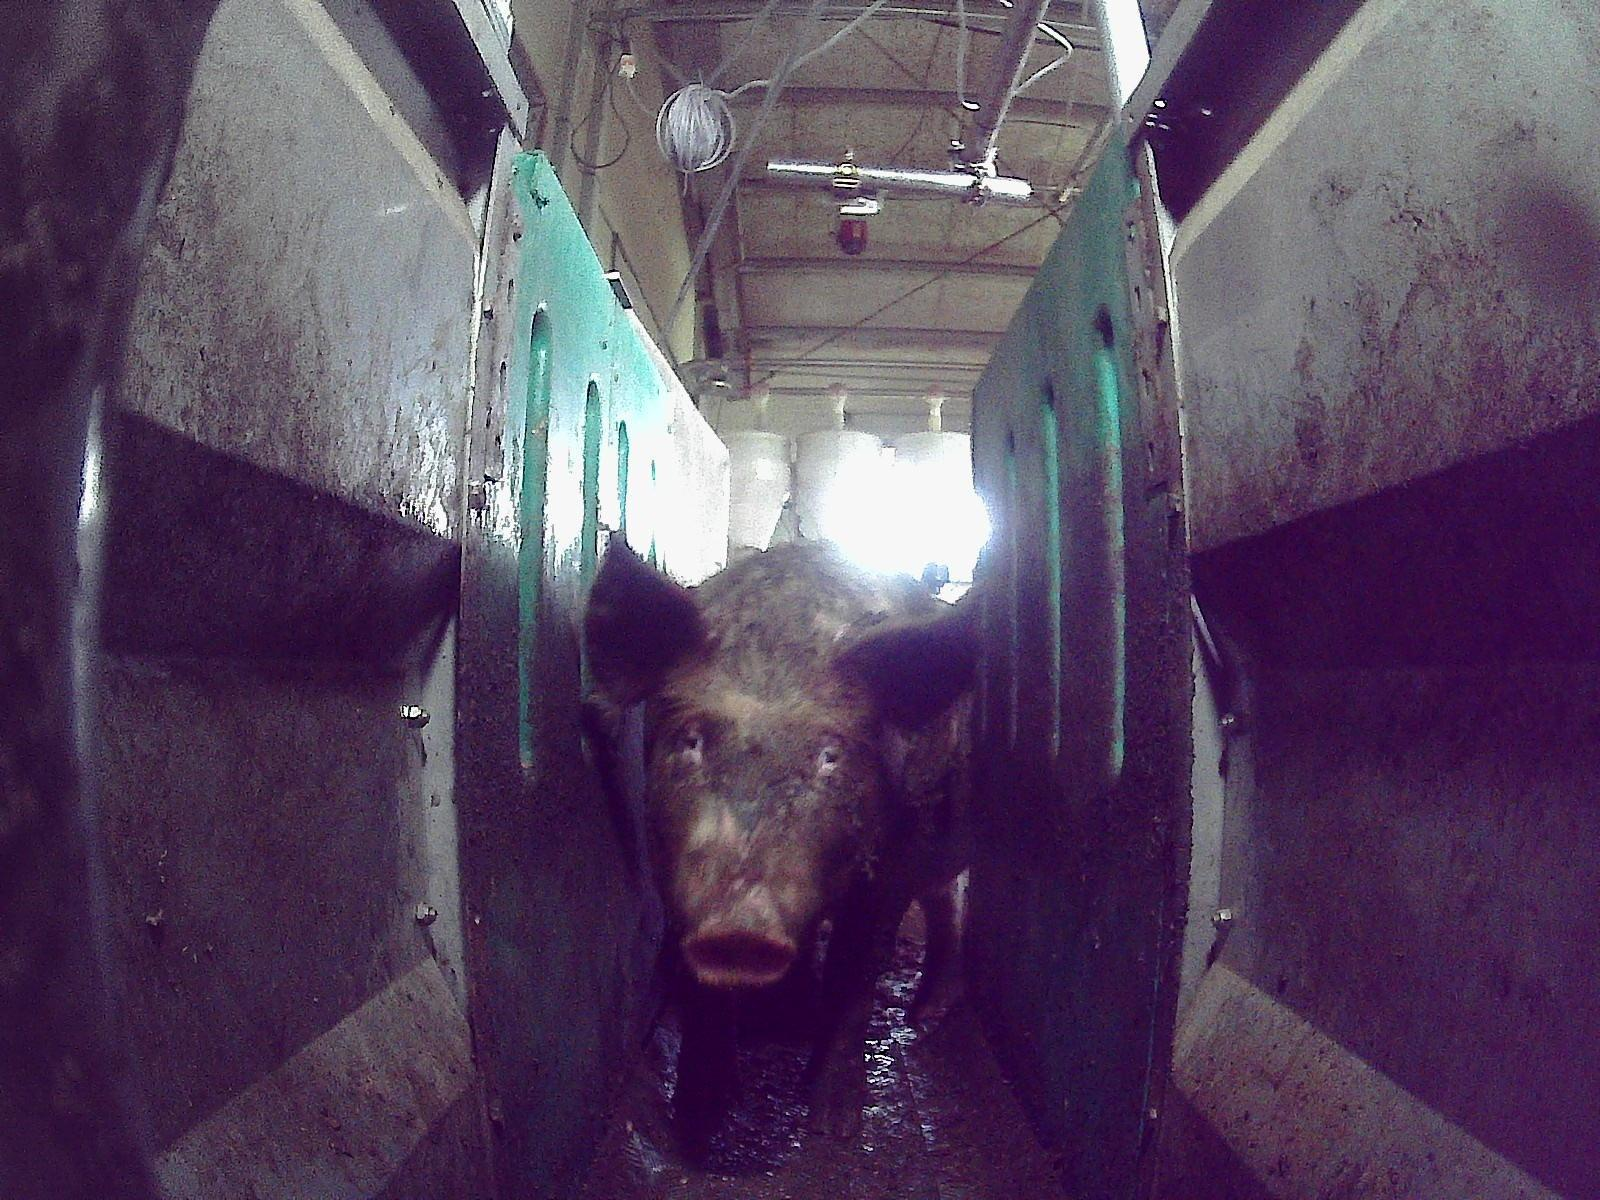Face: (641, 650, 871, 983)
